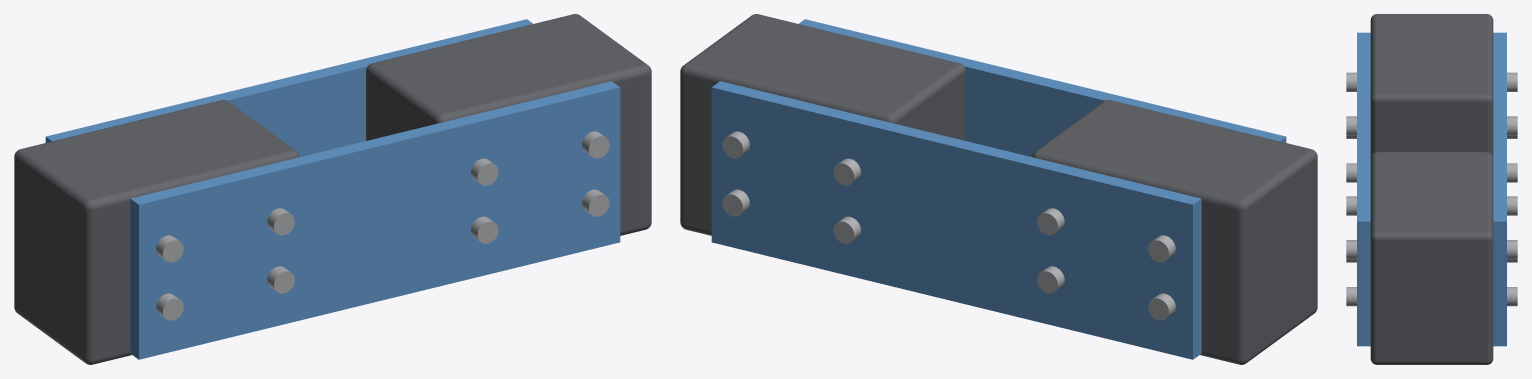
The model's file is knee.glb.
3 renders of one model, left to right at view 1: azimuth 30°, elevation 25°; view 2: azimuth 150°, elevation 25°; view 3: azimuth 270°, elevation 25°, orthographic. The views are drawn at different scales.
Parts seen in each view (by area): view 1: geometry_18, geometry_0, geometry_1, geometry_2, geometry_9, geometry_3, geometry_4, geometry_8, geometry_5, geometry_7, geometry_6; view 2: geometry_18, geometry_0, geometry_1, geometry_10, geometry_17, geometry_11, geometry_12, geometry_16, geometry_13, geometry_15, geometry_14; view 3: geometry_1, geometry_0, geometry_18, geometry_2, geometry_3, geometry_5, geometry_6, geometry_7, geometry_8, geometry_10, geometry_11, geometry_13 (+3 smaller).
Boxes of the visible parts, bbox=[...] form: geometry_18: bbox=[45, 19, 620, 359]; geometry_0: bbox=[14, 99, 299, 364]; geometry_1: bbox=[366, 14, 651, 235]; geometry_2: bbox=[156, 235, 183, 262]; geometry_9: bbox=[471, 216, 498, 243]; geometry_3: bbox=[582, 131, 609, 158]; geometry_4: bbox=[156, 293, 183, 320]; geometry_8: bbox=[267, 266, 294, 293]; geometry_5: bbox=[582, 189, 609, 216]; geometry_7: bbox=[471, 158, 498, 185]; geometry_6: bbox=[267, 208, 294, 235]; geometry_18: bbox=[711, 19, 1286, 359]; geometry_0: bbox=[1032, 99, 1317, 364]; geometry_1: bbox=[680, 14, 965, 235]; geometry_10: bbox=[1148, 235, 1175, 262]; geometry_17: bbox=[833, 216, 860, 243]; geometry_11: bbox=[722, 131, 749, 158]; geometry_12: bbox=[1148, 293, 1175, 320]; geometry_16: bbox=[1037, 266, 1064, 293]; geometry_13: bbox=[722, 189, 749, 216]; geometry_15: bbox=[833, 158, 860, 185]; geometry_14: bbox=[1037, 208, 1064, 235]; geometry_1: bbox=[1370, 152, 1493, 364]; geometry_0: bbox=[1370, 14, 1493, 156]; geometry_18: bbox=[1357, 32, 1506, 346]; geometry_2: bbox=[1346, 72, 1356, 91]; geometry_3: bbox=[1346, 240, 1356, 259]; geometry_5: bbox=[1346, 287, 1356, 306]; geometry_6: bbox=[1346, 116, 1356, 135]; geometry_7: bbox=[1346, 196, 1356, 215]; geometry_8: bbox=[1346, 163, 1356, 182]; geometry_10: bbox=[1507, 72, 1517, 91]; geometry_11: bbox=[1507, 240, 1517, 259]; geometry_13: bbox=[1507, 287, 1517, 306].
Bounding box in the file's own units: 0.1225 × 0.034 × 0.0399.
